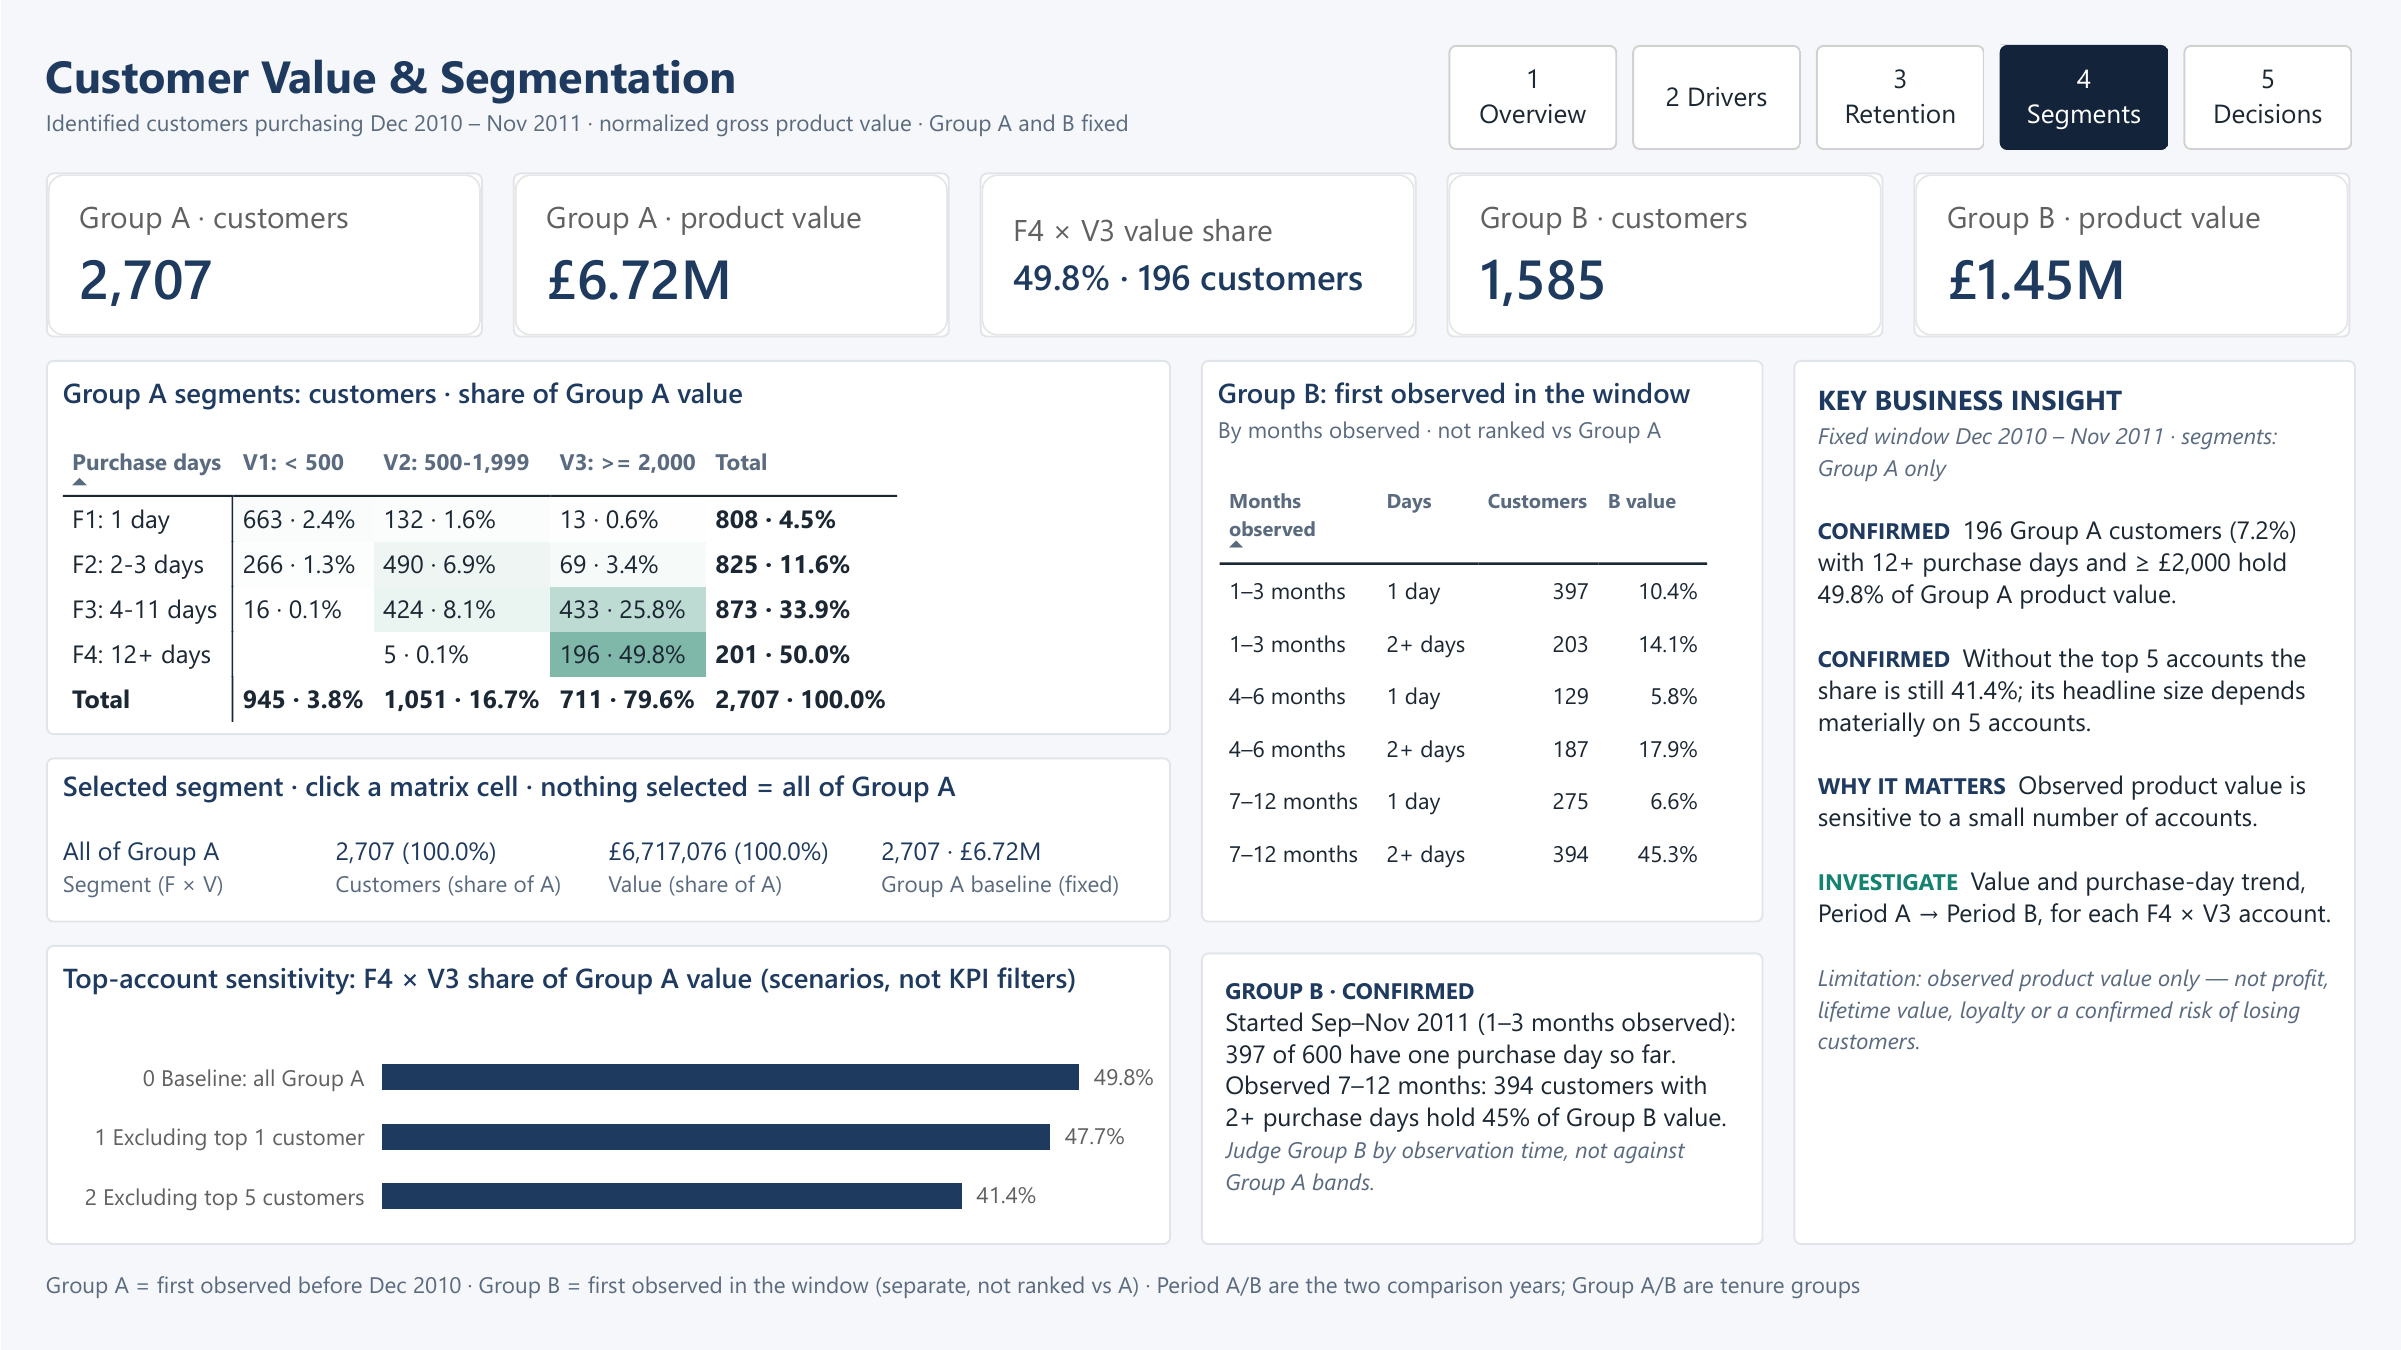

What the dashboard file says about the page in this screenshot:
{"tool":"powerbi","page":{"name":"4 Segments","canvas":[1280,720],"ordinal":3},"visuals":[{"type":"textbox","box":[24,24,740,56],"z":10},{"type":"pageNavigator","box":[772,24,484,56],"z":22},{"type":"cardVisual","fields":{"Data":["_Measures.Card Group A Customers"]},"box":[24,92,233,88],"z":30},{"type":"cardVisual","fields":{"Data":["_Measures.Card Group A Value"]},"box":[273,92,233,88],"z":31},{"type":"cardVisual","fields":{"Data":["_Measures.Card F4 x V3 Share"]},"box":[522,92,233,88],"z":32},{"type":"cardVisual","fields":{"Data":["_Measures.Card Group B Customers"]},"box":[771,92,233,88],"z":33},{"type":"cardVisual","fields":{"Data":["_Measures.Card Group B Value"]},"box":[1020,92,233,88],"z":34},{"type":"pivotTable","title":"Group A segments: customers · share of Group A value","fields":{"Rows":["dim_customer.frequency_band_window"],"Columns":["dim_customer.value_tier_window"],"Values":["_Measures.Segment Cell"]},"box":[24,192,600,200],"z":40},{"type":"clusteredBarChart","title":"Top-account sensitivity: F4 × V3 share of Group A value (scenarios, not KPI filters)","fields":{"Category":["ref_top_account_sensitivity.scenario"],"Y":["_Measures.Sensitivity F4 x V3 Share"]},"box":[24,504,600,160],"z":41},{"type":"tableEx","title":"Group B: first observed in the window","fields":{"Values":["p4_groupb_line.months_observed","p4_groupb_line.purchase_days","_Measures.Group B Line Customers","_Measures.Group B Line Value Share"]},"box":[640,192,300,300],"z":42},{"type":"textbox","box":[640,508,300,156],"z":43},{"type":"multiRowCard","title":"Selected segment · click a matrix cell · nothing selected = all of Group A","fields":{"Values":["_Measures.Selected Segment","_Measures.Selected Segment Customers","_Measures.Selected Segment Value","_Measures.Group A Baseline"]},"box":[24,404,600,88],"z":44},{"type":"textbox","box":[956,192,300,472],"z":50},{"type":"textbox","box":[24,676,1232,20],"z":60}]}

Visuals, with their boxes in screenshot pixels (x1, y1, x2, y2), scaled from the page's 1280x720 canvas onto the 2401x1350 screenshot:
textbox: 45, 45, 1433, 150
pageNavigator: 1448, 45, 2356, 150
cardVisual - _Measures.Card Group A Customers: 45, 172, 482, 338
cardVisual - _Measures.Card Group A Value: 512, 172, 949, 338
cardVisual - _Measures.Card F4 x V3 Share: 979, 172, 1416, 338
cardVisual - _Measures.Card Group B Customers: 1446, 172, 1883, 338
cardVisual - _Measures.Card Group B Value: 1913, 172, 2350, 338
"Group A segments: customers · share of Group A value" pivotTable: 45, 360, 1170, 735
"Top-account sensitivity: F4 × V3 share of Group A value (scenarios, not KPI filters)" clusteredBarChart: 45, 945, 1170, 1245
"Group B: first observed in the window" tableEx: 1200, 360, 1763, 922
textbox: 1200, 952, 1763, 1245
"Selected segment · click a matrix cell · nothing selected = all of Group A" multiRowCard: 45, 758, 1170, 922
textbox: 1793, 360, 2356, 1245
textbox: 45, 1268, 2356, 1305
